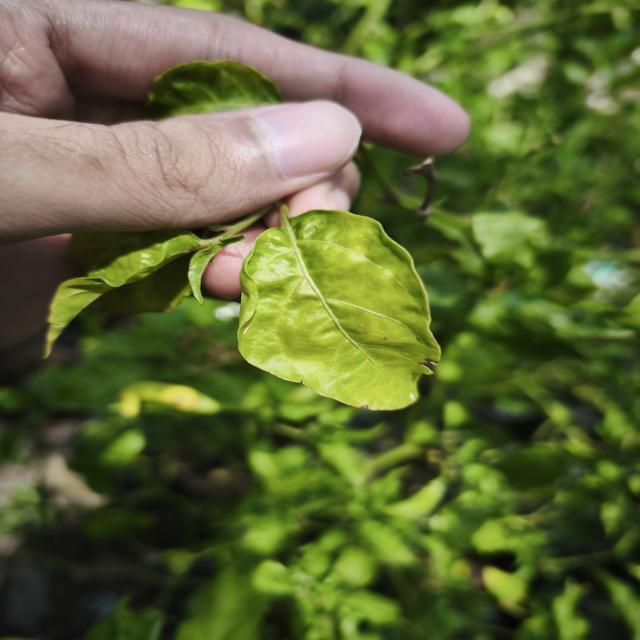Virus Kuning: (236, 205, 442, 412)
